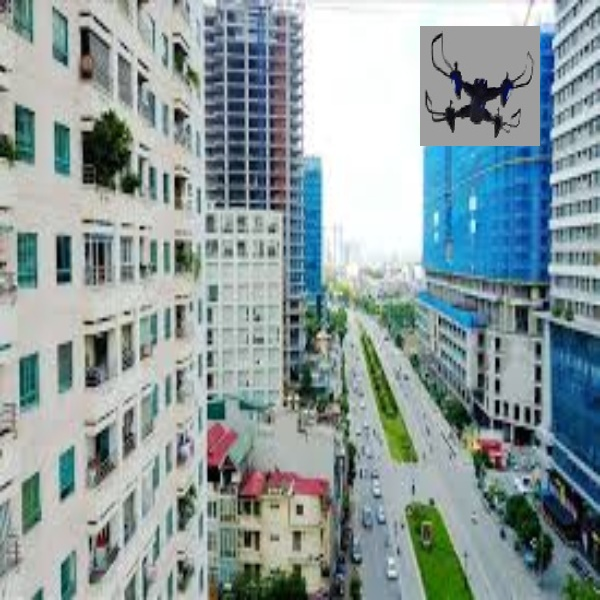drone: (426, 31, 539, 148)
